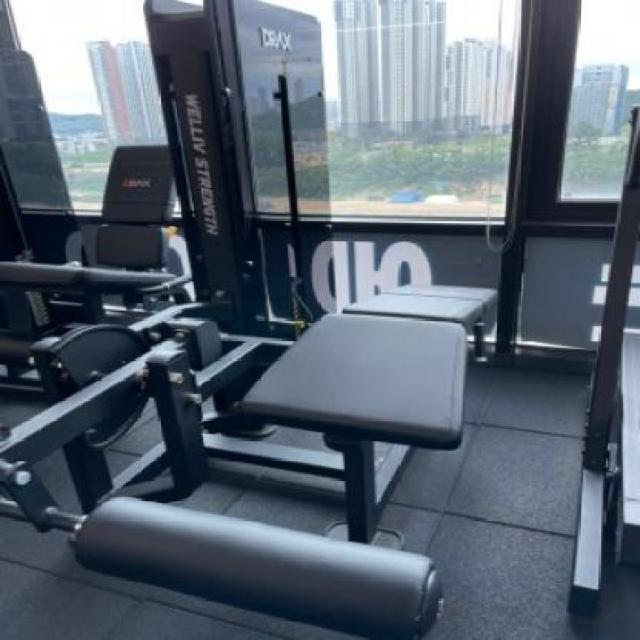reg curl machine: (1, 0, 518, 640)
